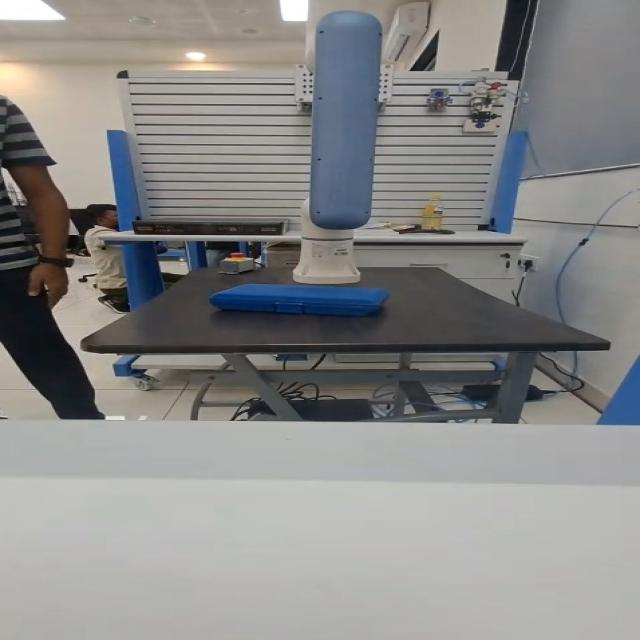top-surface: (226, 285, 379, 299)
